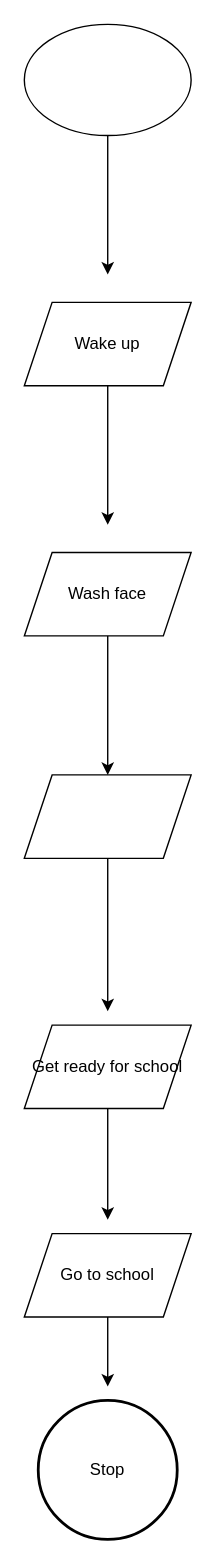
Some shapes in this 215 by 1565 pixel diagram are drawn without their labels. The shapes that lost their labels are listed below. From the top down, each one's centre as x and y in pixels, then its label:
the point at 107,79: Start
the point at 107,816: Eat breakfast
